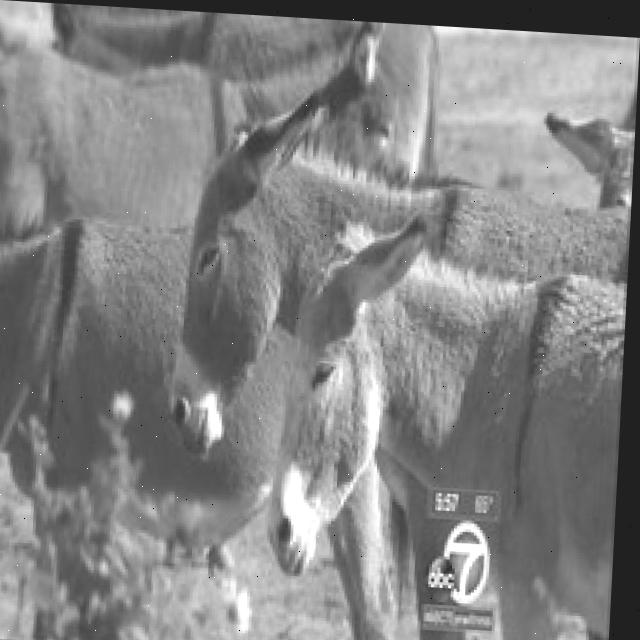Donkey: (0, 0, 443, 640), (174, 14, 637, 418), (259, 200, 628, 640), (0, 208, 300, 640), (38, 3, 443, 180), (0, 35, 261, 250)
